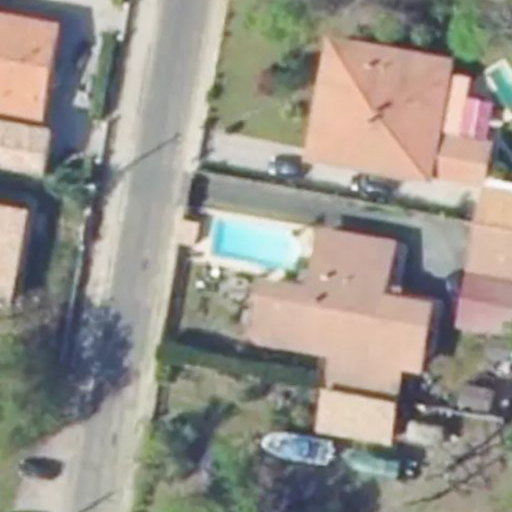pool: (206, 208, 312, 277)
